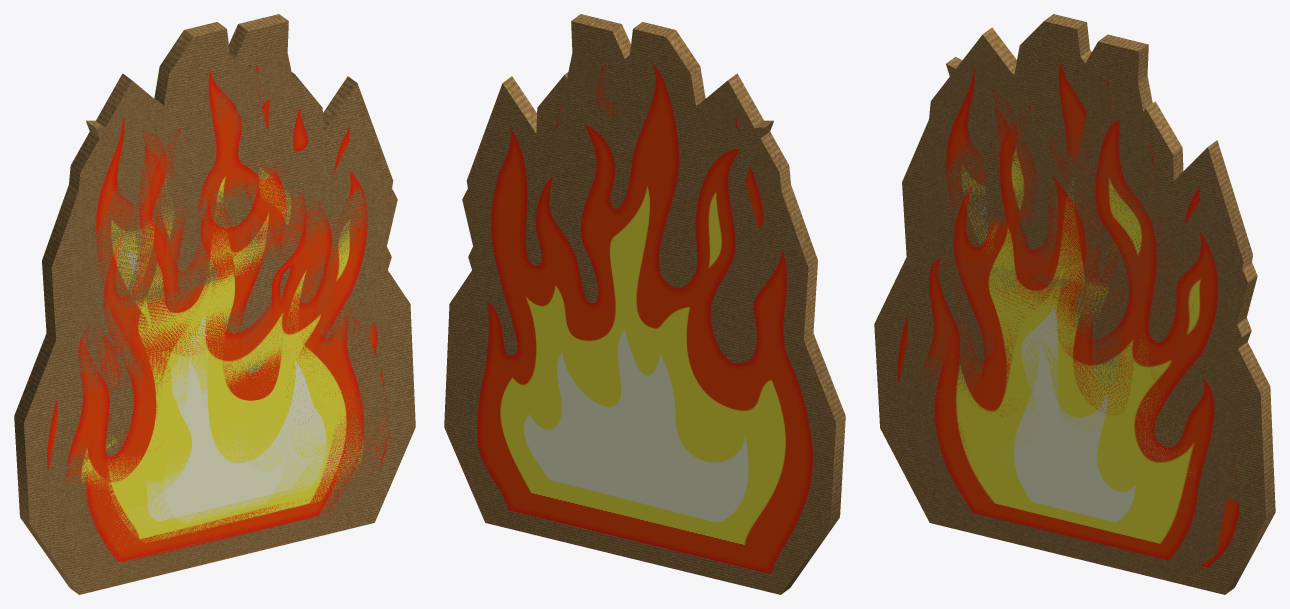
Rendered from Fire.fbx.
The picture shows the model from 3 angles, left to right: view 1: azimuth 30°, elevation 25°; view 2: azimuth 150°, elevation 25°; view 3: azimuth 330°, elevation 25°; orthographic projection.
Parts seen in each view (by area): view 1: Fire_02, Fire_01, Fire_03, Fire_04; view 2: Fire_04, Fire_01, Fire_03, Fire_02; view 3: Fire_01, Fire_02, Fire_03, Fire_04.
Part boxes in pixels (left/top/right/bottom): Fire_02: left=42, top=40, right=392, bottom=594; Fire_01: left=43, top=43, right=397, bottom=588; Fire_03: left=60, top=14, right=415, bottom=590; Fire_04: left=14, top=22, right=393, bottom=594; Fire_04: left=456, top=22, right=845, bottom=594; Fire_01: left=462, top=43, right=790, bottom=271; Fire_03: left=444, top=14, right=700, bottom=526; Fire_02: left=468, top=55, right=705, bottom=269; Fire_01: left=893, top=27, right=1257, bottom=582; Fire_02: left=892, top=33, right=1251, bottom=540; Fire_03: left=911, top=34, right=1275, bottom=594; Fire_04: left=874, top=14, right=1252, bottom=521.
Bounding box in the file's own units: 0.7846 × 1.01 × 0.0335.
